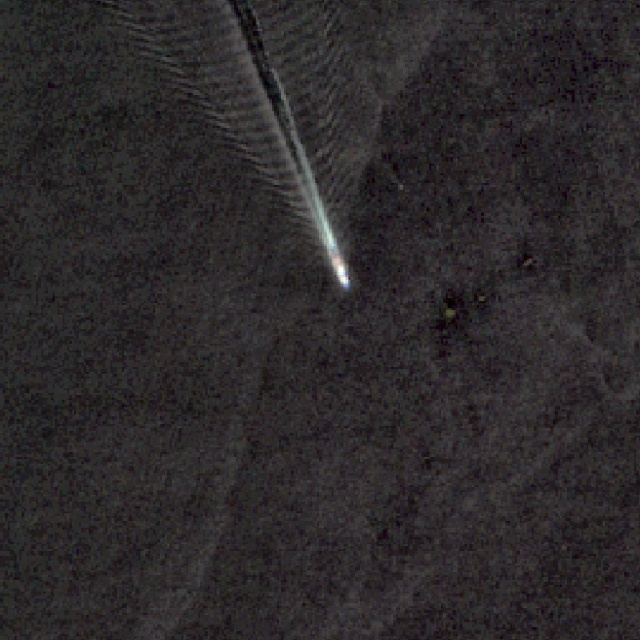wake: (210, 78, 420, 320)
